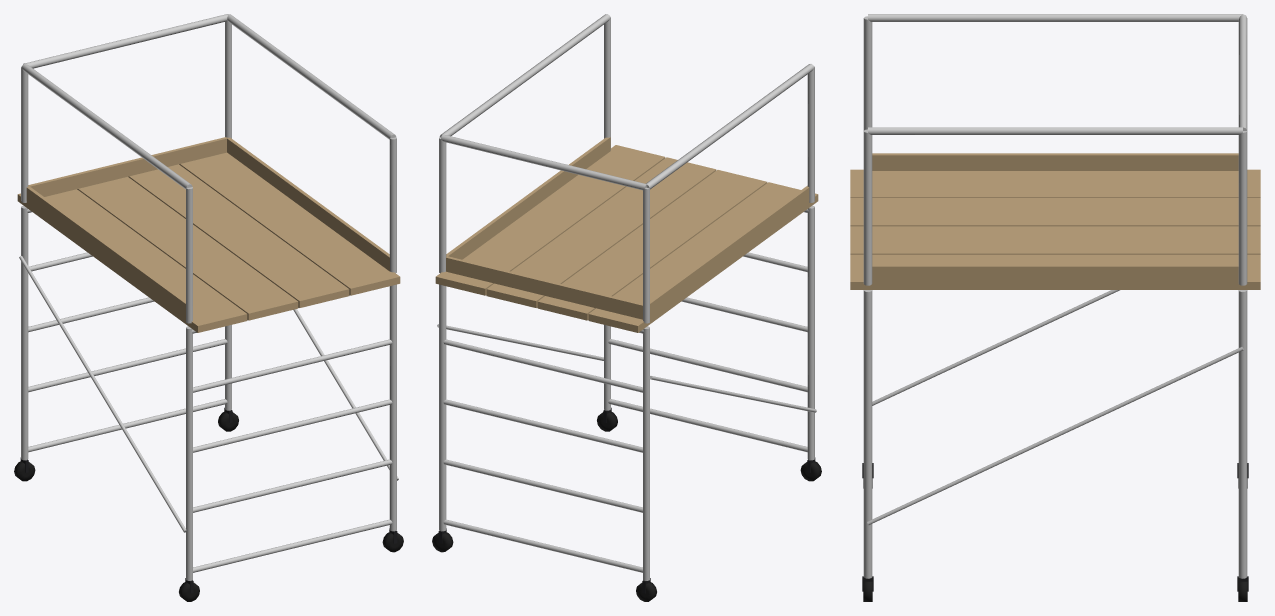
Rendered from scaffold-tower.glb.
The picture shows the model from 3 angles, left to right: view 1: azimuth 30°, elevation 25°; view 2: azimuth 150°, elevation 25°; view 3: azimuth 270°, elevation 25°; orthographic projection. The views are drawn at different scales.
Visible parts, largest first — view 1: plank, galvanized, rubber; view 2: plank, galvanized, rubber; view 3: plank, galvanized.
Boxes of the visible parts, left/top/right/bottom form: plank: left=17, top=137, right=400, bottom=332; galvanized: left=19, top=14, right=398, bottom=580; rubber: left=14, top=411, right=403, bottom=601; plank: left=435, top=137, right=818, bottom=332; galvanized: left=437, top=14, right=816, bottom=580; rubber: left=432, top=411, right=821, bottom=601; plank: left=850, top=153, right=1260, bottom=289; galvanized: left=863, top=14, right=1247, bottom=578.
Size of the model in its own units: 1.65 by 2.97 by 2.33.
